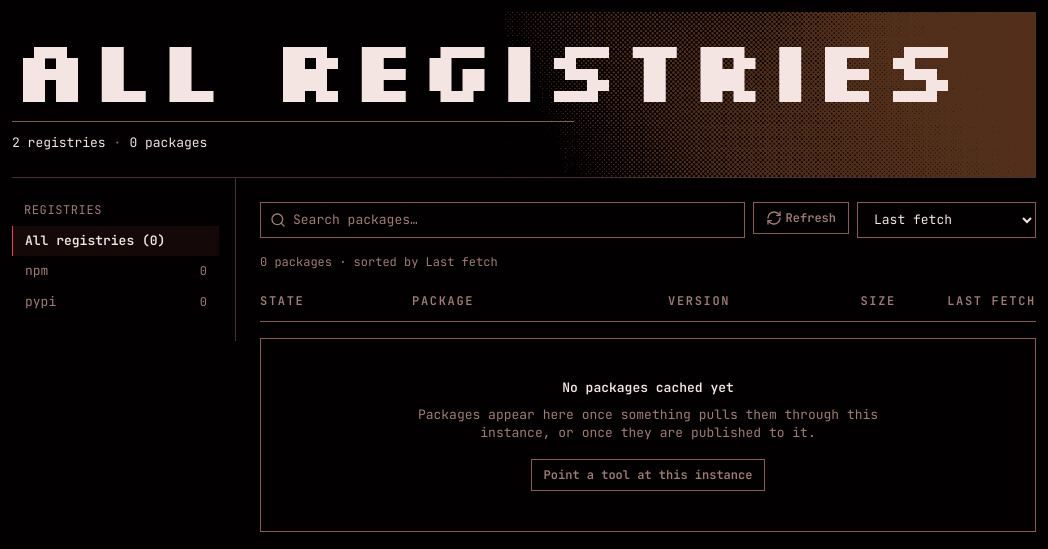
it: PackageCatalog browsing › distinguishes an empty instance from a search that matched nothing
Type "nothing-matches" into the field with placeholder "Search packages…" at [502, 220], box [260,202,745,238]
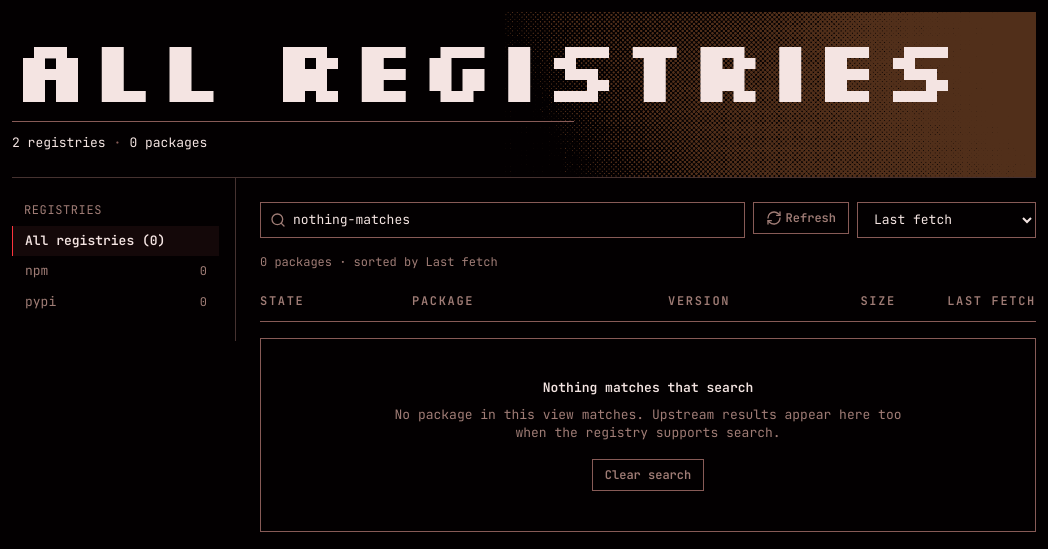
Now the text "Nothing matches that search" is shown, box [543,379,753,396]
Click the button "Clear search" at [648, 475], box [592,459,704,491]
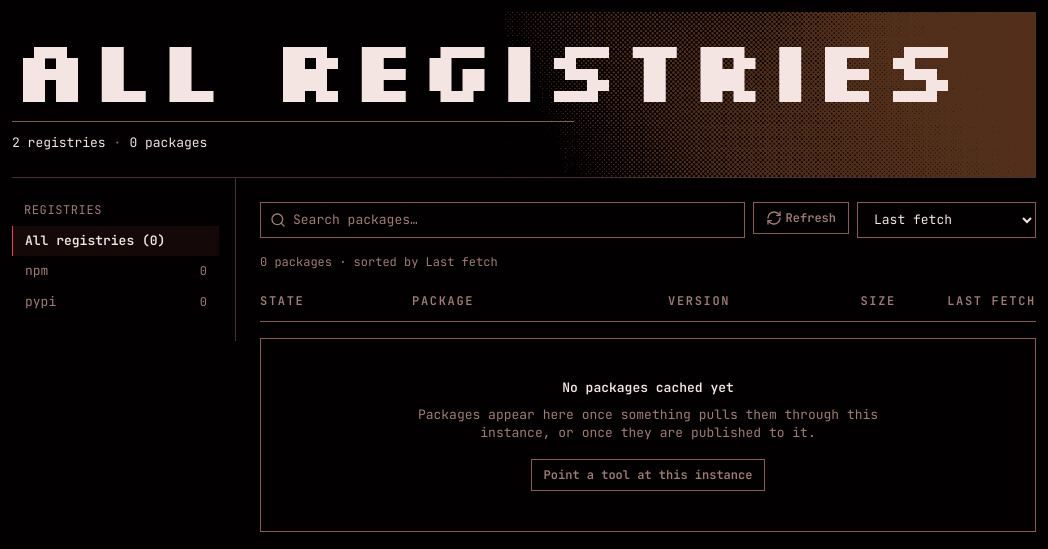
Now the text "No packages cached yet" is shown, box [562,379,734,396]
